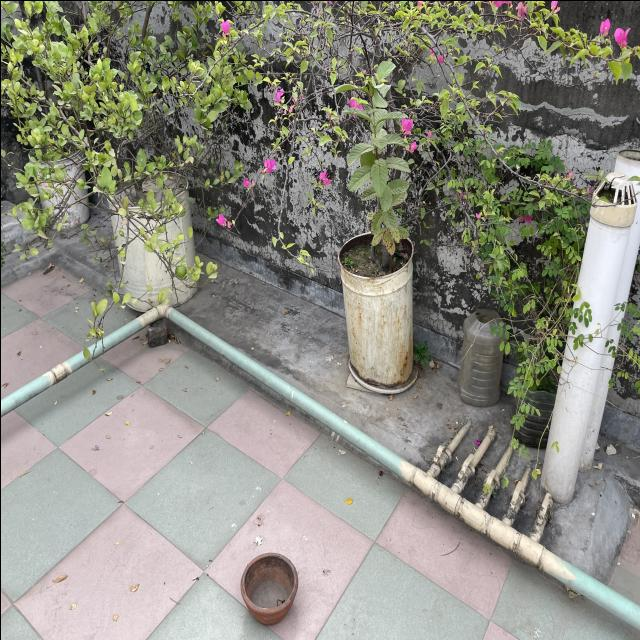Breeding Place: (115, 170, 191, 314), (349, 234, 410, 390), (452, 312, 504, 406), (32, 138, 84, 232), (511, 354, 559, 452), (237, 552, 298, 622)
